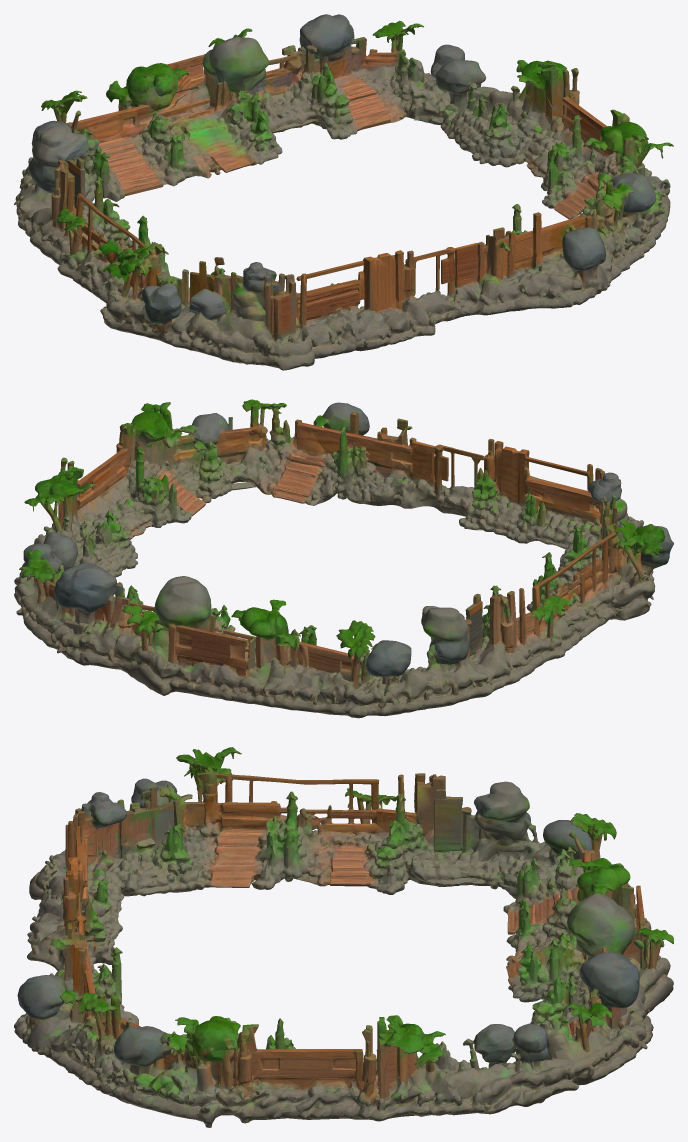
File: Arena.glb
The picture shows the model from 3 angles, top to bottom: view 1: azimuth 30°, elevation 25°; view 2: azimuth 150°, elevation 25°; view 3: azimuth 270°, elevation 25°; orthographic projection. The views are drawn at different scales.
Size of the model in its own units: 1.9 by 0.2931 by 1.77.
1 material, 1 textured.
